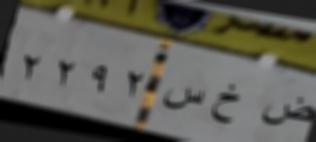2: (55, 54, 81, 90), (19, 49, 42, 82), (125, 68, 145, 98)
9: (90, 62, 113, 103)
daad: (258, 88, 315, 134)
khaa: (209, 77, 240, 130)
seen: (160, 77, 205, 121)
